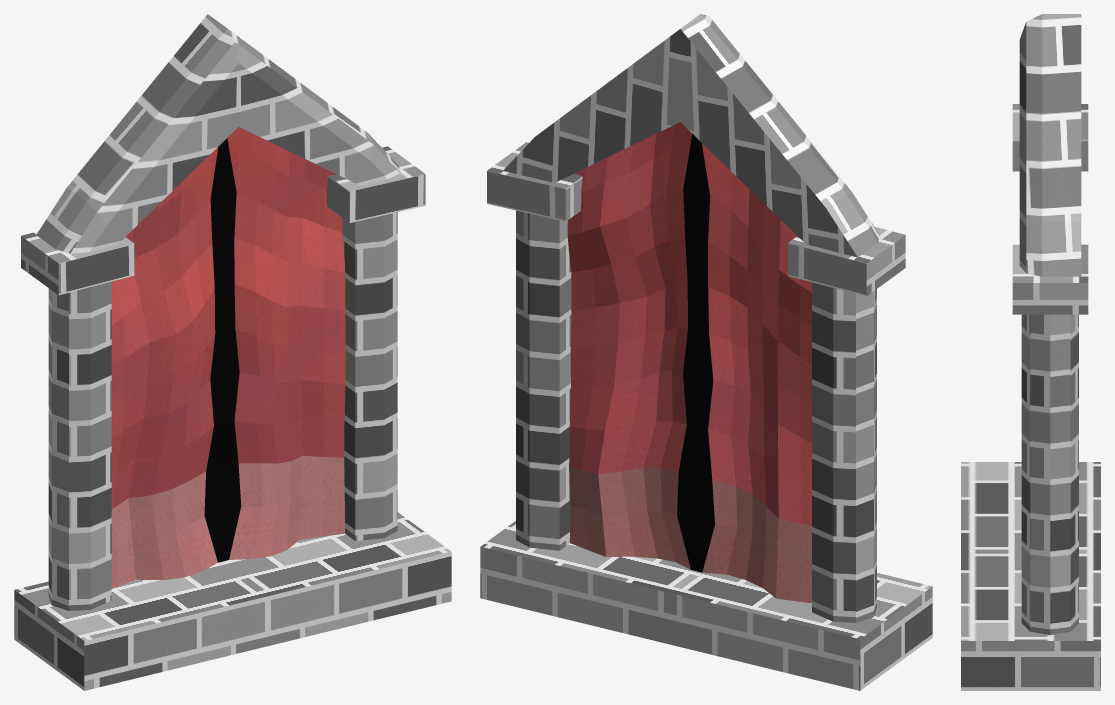
Rendered from Window.fbx.
3 renders of one model, left to right at view 1: azimuth 30°, elevation 25°; view 2: azimuth 150°, elevation 25°; view 3: azimuth 270°, elevation 25°, orthographic. The views are drawn at different scales.
Visible parts, largest first — view 1: Window; view 2: Window; view 3: Window.
Part boxes in pixels (x1,y1,x2,y2): Window: (14, 14, 451, 690); Window: (480, 14, 932, 690); Window: (961, 14, 1100, 690).
Bounding box in the file's own units: 409 × 627 × 135.
